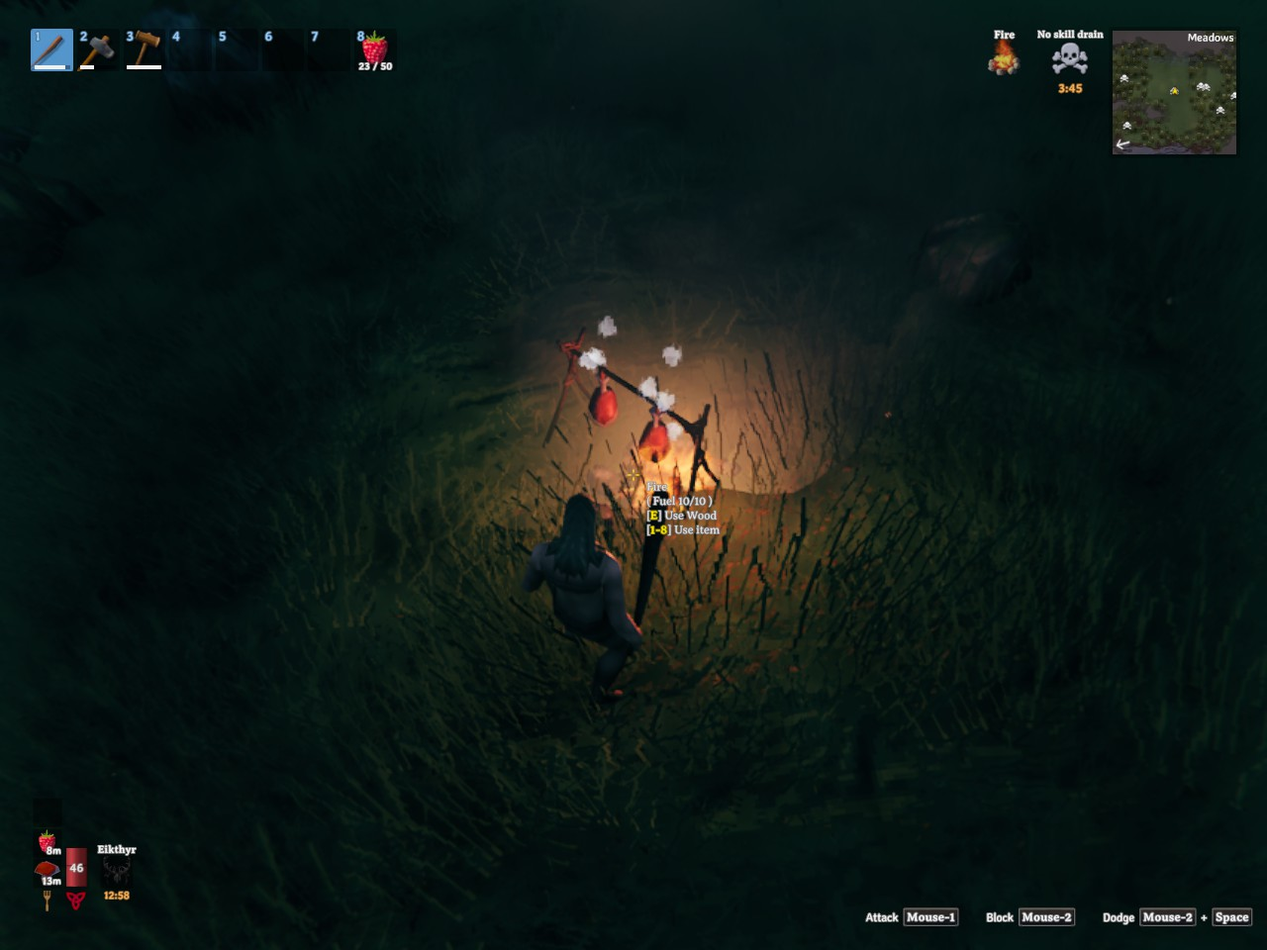Club: (633, 489, 670, 625)
Cook Station: (582, 366, 720, 494), (543, 331, 584, 445)
Food Indicator: (34, 829, 62, 886)
Health Bar: (65, 847, 87, 888)
Hotbar: (28, 14, 416, 93)
Status Indicator: (1038, 30, 1104, 74), (988, 30, 1021, 75), (1059, 80, 1082, 93)
